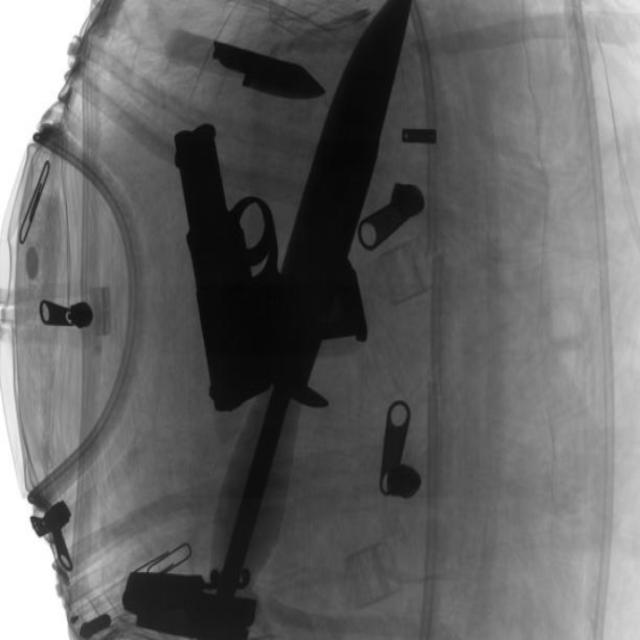GUN: (163, 117, 375, 416)
